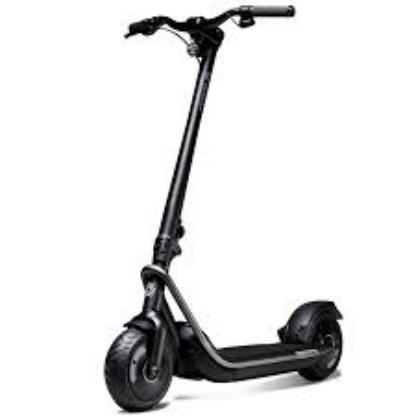bike: (102, 2, 346, 414)
